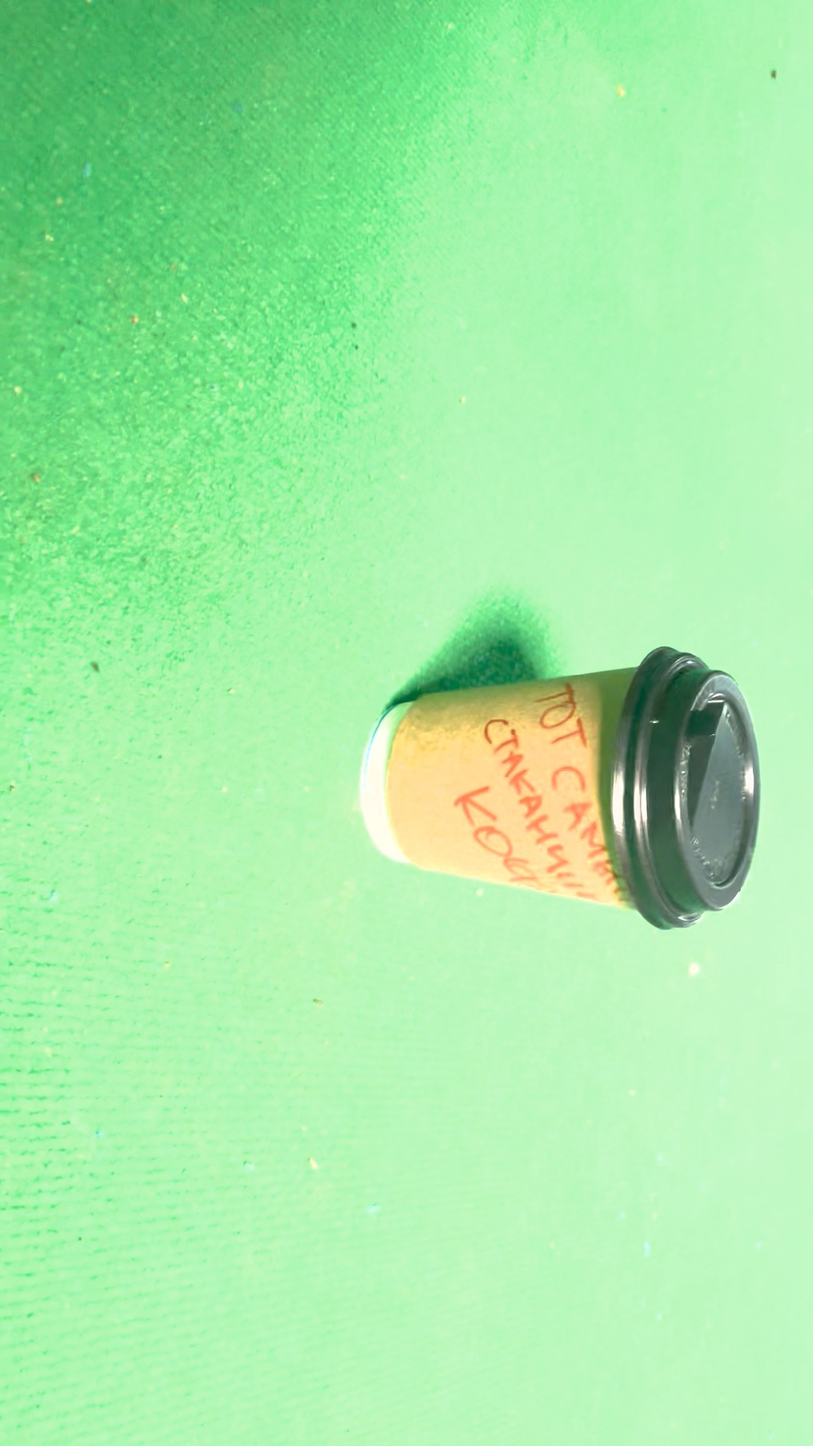cup: (408, 439, 490, 854)
